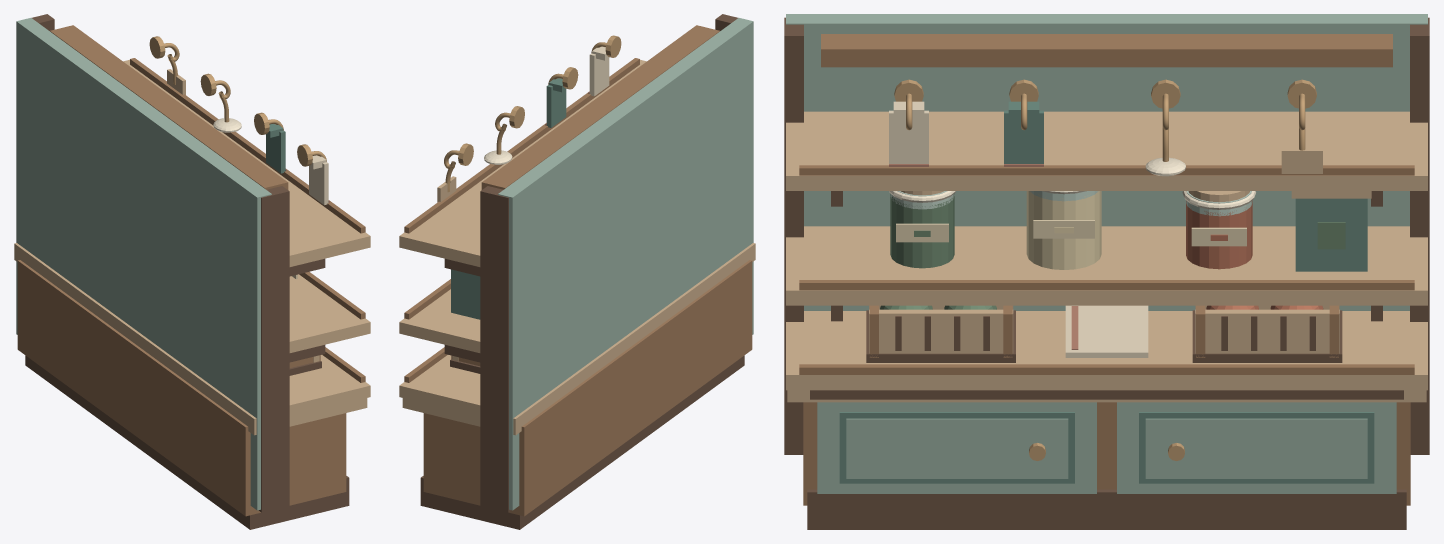
The model's file is park_kitchen_wall_pantry.glb.
The picture shows the model from 3 angles, left to right: view 1: azimuth 30°, elevation 25°; view 2: azimuth 150°, elevation 25°; view 3: azimuth 270°, elevation 25°; orthographic projection. The views are drawn at different scales.
Visible parts, largest first — view 1: wall_anchor_backboard, base_cupboard_body, wall_anchor_vertical_oak, peg_rail_screwed_to_back, base_cupboard_worktop, open_shelf_plank.002, base_cupboard_plinth, open_shelf_plank.001, open_shelf_plank, open_shelf_front_rail.002, tea_towel_hanging_fabric, tea_towel_hanging_fabric.001 (+2 smaller); view 2: wall_anchor_backboard, base_cupboard_body, wall_anchor_vertical_oak.001, peg_rail_screwed_to_back, base_cupboard_worktop, open_shelf_plank.002, base_cupboard_plinth, open_shelf_plank, open_shelf_plank.001, open_shelf_front_rail.002, enamel_tea_tin, tea_towel_hanging_fabric (+3 smaller); view 3: wall_anchor_backboard, open_shelf_plank.002, open_shelf_plank.001, open_shelf_plank, base_cupboard_plinth, peg_rail_screwed_to_back, cabinet_door_refined_face, cabinet_door_refined_face.001, cabinet_recessed_door, cabinet_recessed_door.001, open_shelf_front_rail, open_shelf_front_rail.001 (+24 smaller).
Part boxes in pixels (x1=…): wall_anchor_backboard: x1=16, y1=18, x2=271, y2=510; base_cupboard_body: x1=17, y1=260, x2=346, y2=516; wall_anchor_vertical_oak: x1=258, y1=186, x2=289, y2=512; peg_rail_screwed_to_back: x1=50, y1=25, x2=288, y2=189; base_cupboard_worktop: x1=14, y1=243, x2=367, y2=435; open_shelf_plank.002: x1=123, y1=59, x2=370, y2=266; base_cupboard_plinth: x1=25, y1=355, x2=349, y2=529; open_shelf_plank.001: x1=289, y1=274, x2=370, y2=352; open_shelf_plank: x1=289, y1=355, x2=370, y2=416; open_shelf_front_rail.002: x1=130, y1=58, x2=365, y2=233; tea_towel_hanging_fabric: x1=309, y1=162, x2=328, y2=205; tea_towel_hanging_fabric.001: x1=266, y1=130, x2=285, y2=173; wall_anchor_backboard: x1=498, y1=18, x2=753, y2=510; base_cupboard_body: x1=423, y1=260, x2=752, y2=516; wall_anchor_vertical_oak.001: x1=480, y1=186, x2=511, y2=512; peg_rail_screwed_to_back: x1=481, y1=25, x2=719, y2=189; base_cupboard_worktop: x1=402, y1=243, x2=755, y2=435; open_shelf_plank.002: x1=399, y1=59, x2=646, y2=266; base_cupboard_plinth: x1=420, y1=355, x2=744, y2=529; open_shelf_plank: x1=399, y1=355, x2=480, y2=416; open_shelf_plank.001: x1=399, y1=289, x2=480, y2=352; open_shelf_front_rail.002: x1=404, y1=58, x2=639, y2=233; enamel_tea_tin: x1=451, y1=269, x2=480, y2=319; tea_towel_hanging_fabric: x1=589, y1=53, x2=609, y2=96; wall_anchor_backboard: x1=786, y1=14, x2=1427, y2=310; open_shelf_plank.002: x1=786, y1=111, x2=1427, y2=190; open_shelf_plank.001: x1=786, y1=226, x2=1427, y2=305; open_shelf_plank: x1=786, y1=311, x2=1427, y2=390; base_cupboard_plinth: x1=807, y1=489, x2=1406, y2=529; peg_rail_screwed_to_back: x1=821, y1=34, x2=1392, y2=67; cabinet_door_refined_face: x1=846, y1=418, x2=1068, y2=478; cabinet_door_refined_face.001: x1=1145, y1=418, x2=1367, y2=478; cabinet_recessed_door: x1=817, y1=402, x2=1096, y2=493; cabinet_recessed_door.001: x1=1117, y1=402, x2=1396, y2=493; open_shelf_front_rail: x1=799, y1=364, x2=1414, y2=374; open_shelf_front_rail.001: x1=799, y1=280, x2=1414, y2=290.
Size of the model in its own units: 0.7469 by 1.86 by 2.41.
